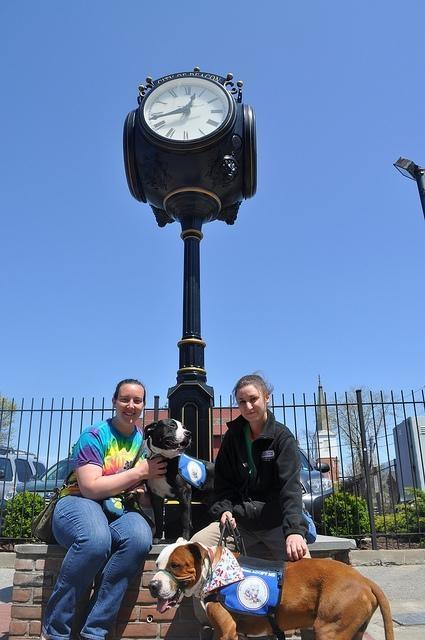car: (0, 449, 49, 510), (298, 447, 334, 523), (18, 458, 75, 492)
